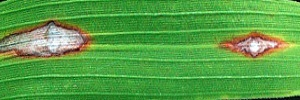RiceBlast: (1, 18, 94, 60), (211, 29, 295, 61)
